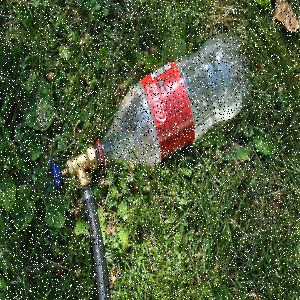Plastic-bottle: (98, 34, 252, 174)
